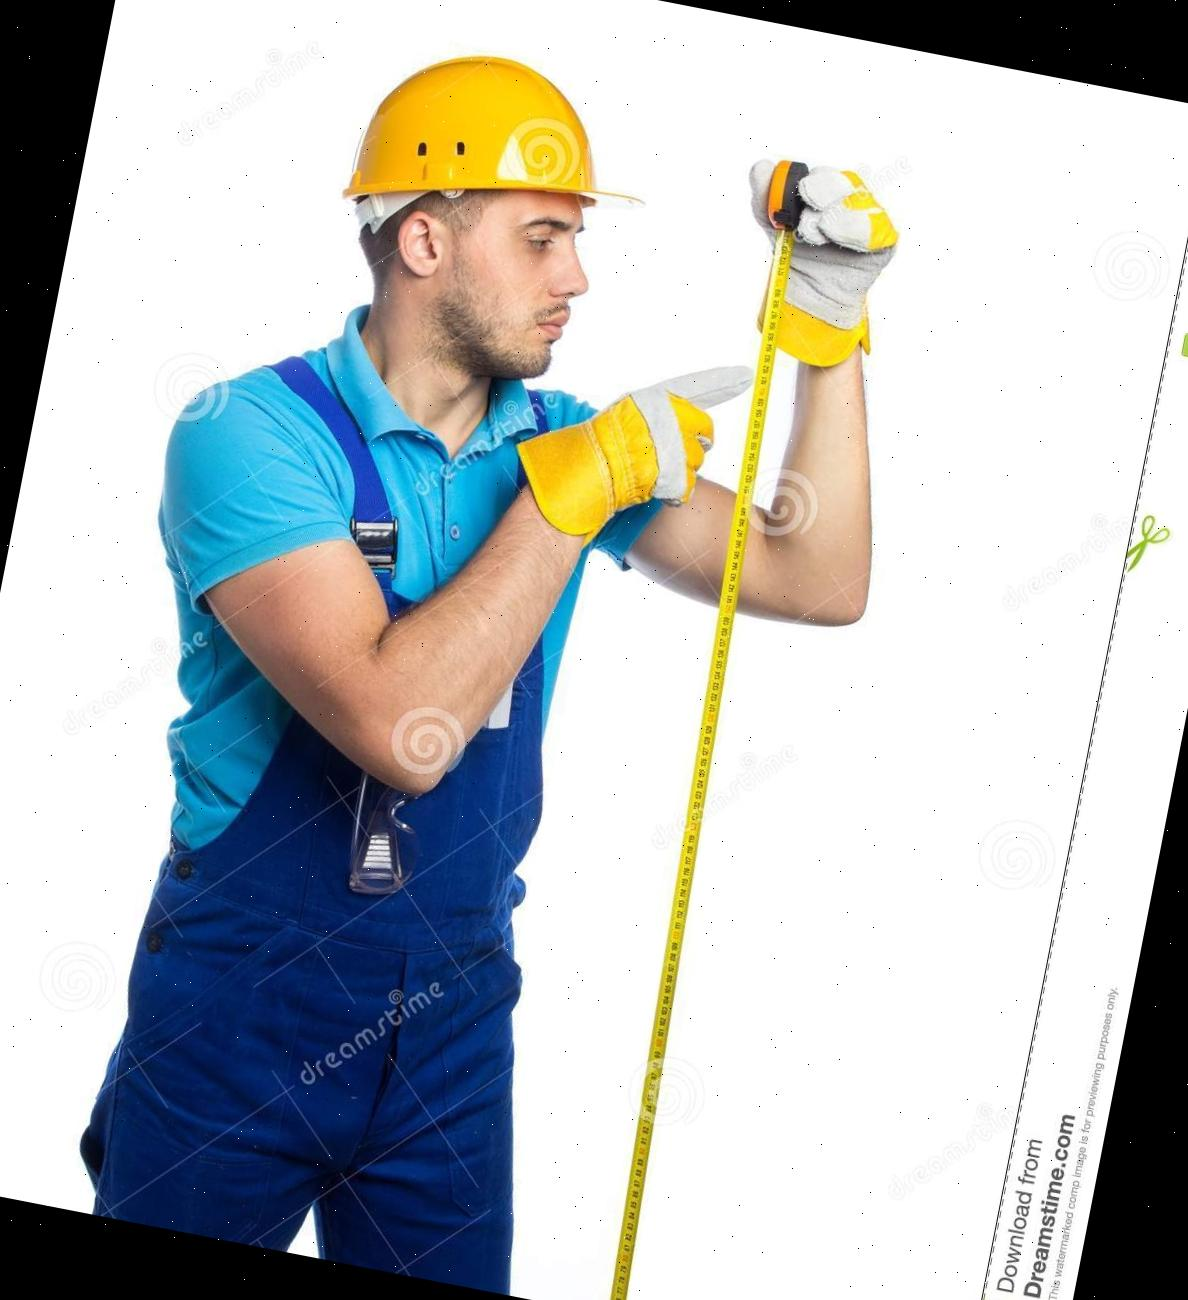helmet: (331, 25, 672, 259)
no_wear: (106, 345, 630, 980)
